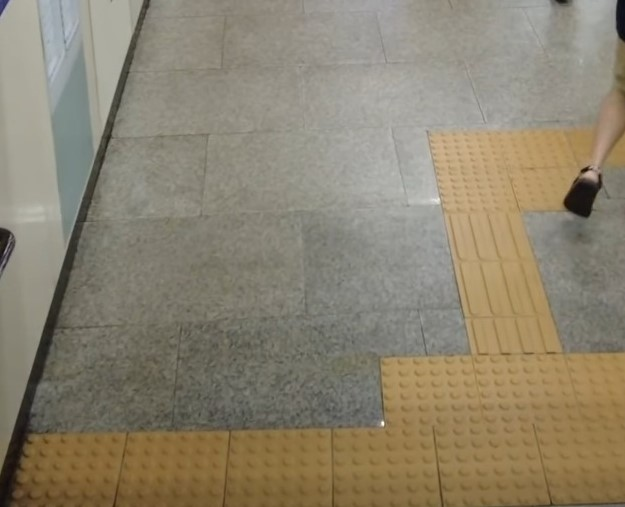guideBlock: (458, 264, 548, 351), (443, 212, 535, 274)
warningBlock: (428, 425, 548, 507), (329, 431, 444, 507), (536, 421, 625, 507), (26, 438, 135, 507), (131, 433, 232, 507), (481, 351, 575, 428), (240, 434, 335, 507), (384, 361, 478, 431), (578, 345, 625, 431)
